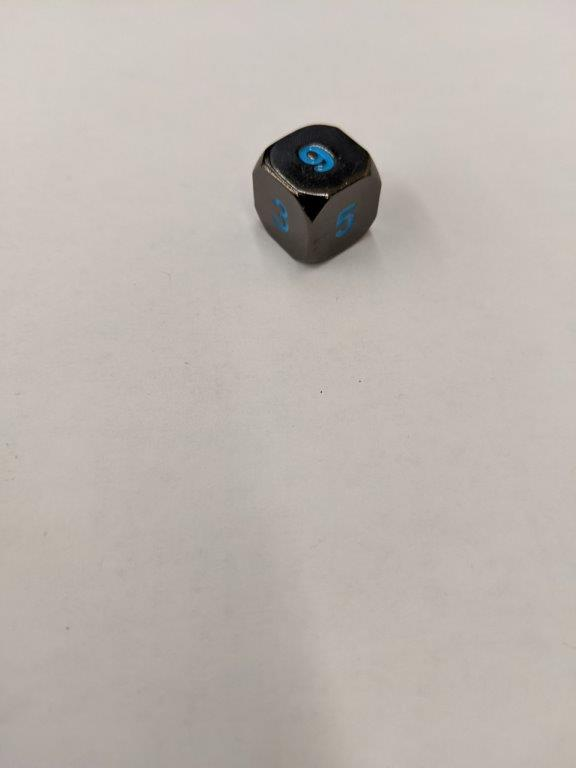d6-6: (253, 126, 384, 268)
